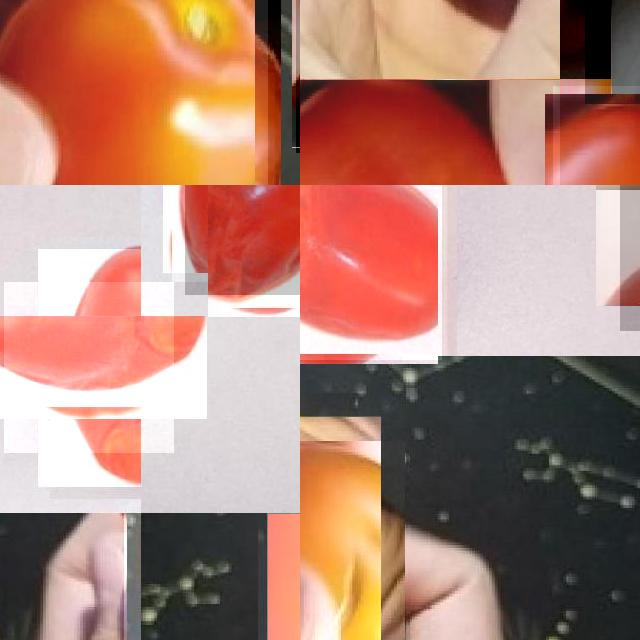0: (0, 0, 268, 185), (552, 86, 640, 185)
1: (300, 79, 560, 185)
Rotten Tomato: (4, 282, 174, 453), (300, 185, 442, 360), (300, 416, 381, 640), (185, 185, 300, 295)
